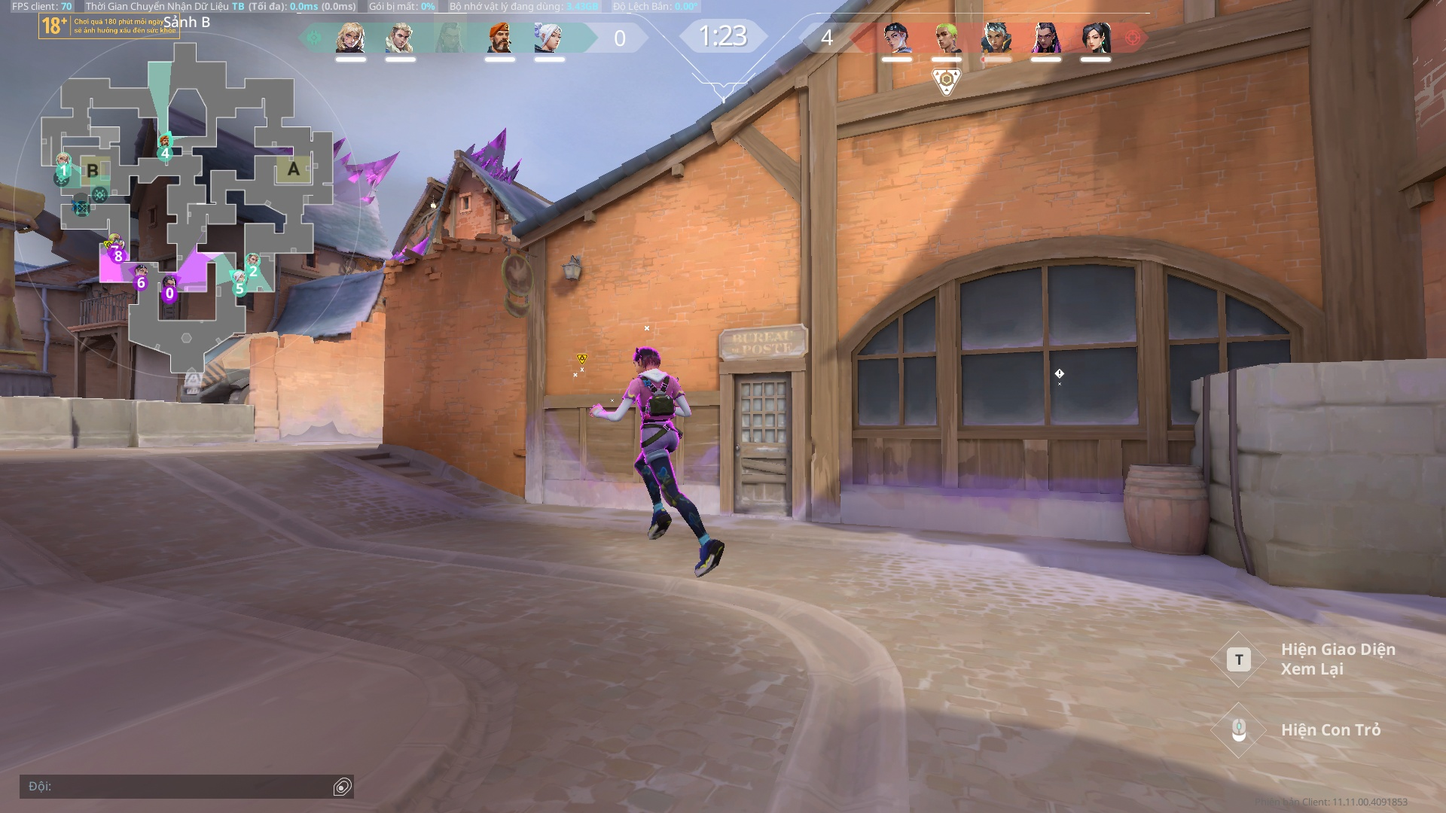body: (626, 370, 688, 425)
head: (631, 346, 658, 371)
